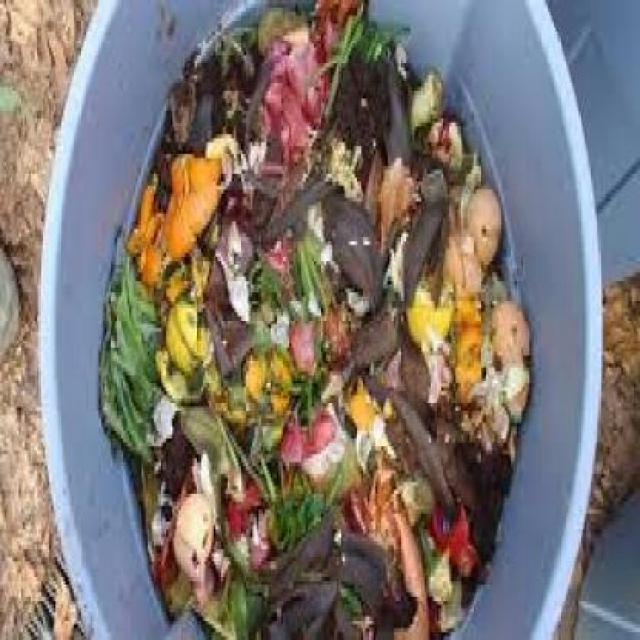garbage: (103, 5, 538, 638)
